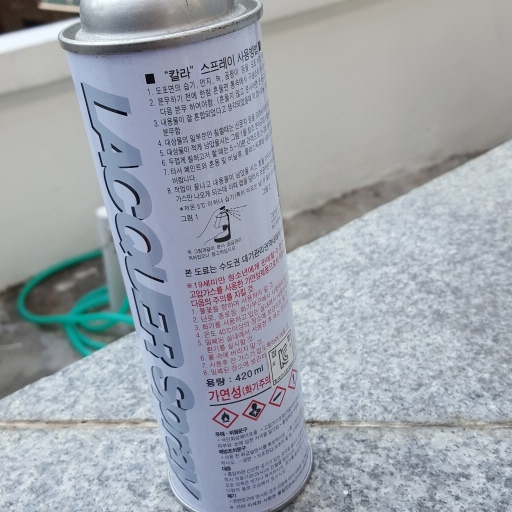Metal_0: (59, 1, 316, 512)
